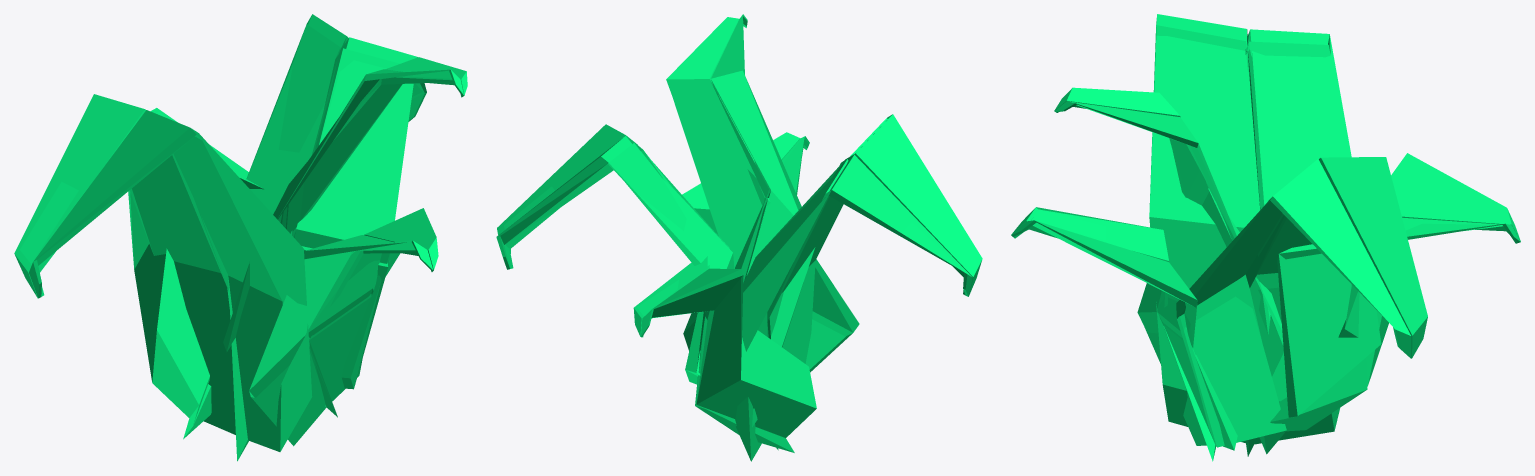
File: tree7.glb
The picture shows the model from 3 angles, left to right: view 1: azimuth 30°, elevation 25°; view 2: azimuth 150°, elevation 25°; view 3: azimuth 270°, elevation 25°; orthographic projection. The views are drawn at different scales.
Visible parts, largest first — view 1: Cube; view 2: Cube; view 3: Cube.
Boxes of the visible parts, left/top/right/bottom form: Cube: left=14, top=14, right=467, bottom=461; Cube: left=496, top=14, right=982, bottom=461; Cube: left=1011, top=14, right=1520, bottom=461.
Bounding box in the file's own units: 12.69 × 10.59 × 11.29.
